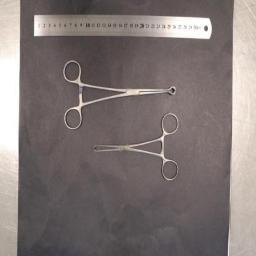Allis Tissue Forceps: (92, 112, 180, 182)
